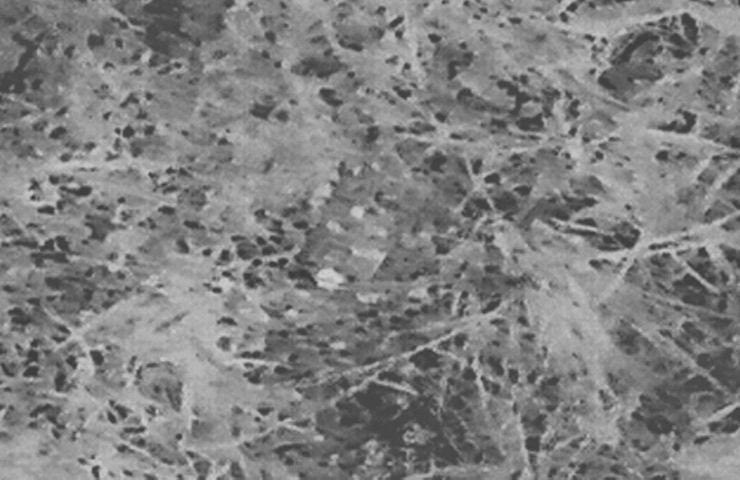landmines: (299, 185, 417, 313)
